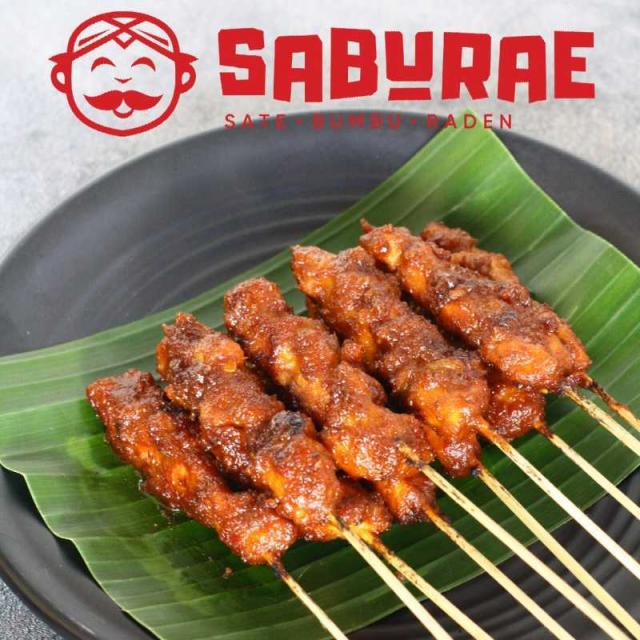sate: (82, 214, 640, 640)
